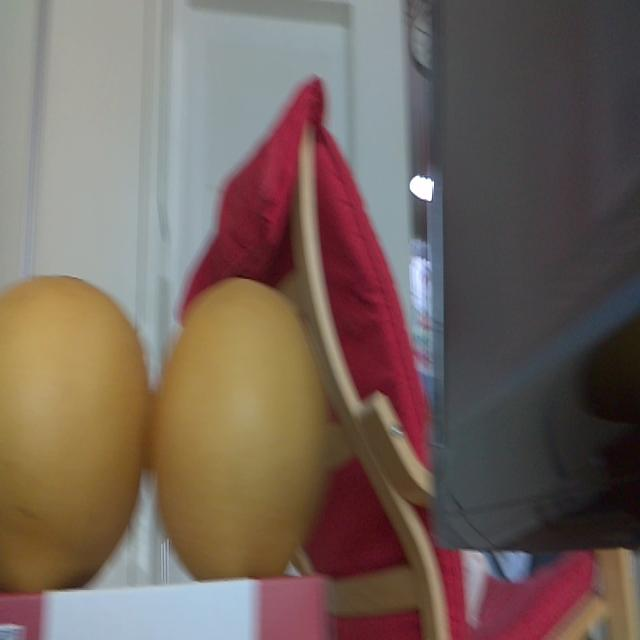pear: (154, 276, 326, 578), (0, 276, 144, 588)
